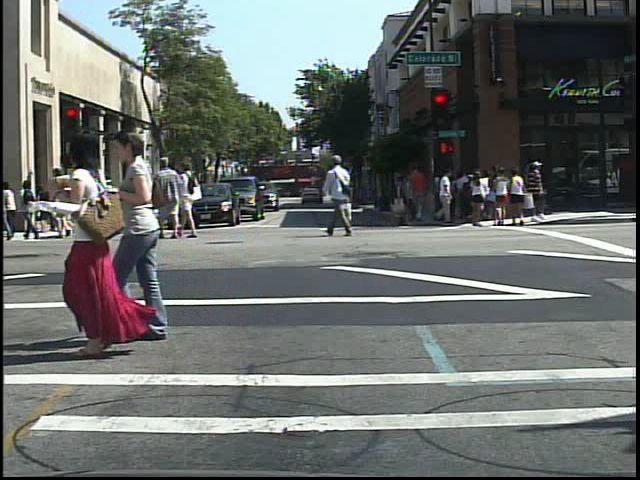person: (43, 128, 155, 362), (111, 126, 187, 339), (324, 150, 361, 243), (151, 155, 185, 242), (521, 159, 561, 227), (50, 166, 77, 245), (83, 168, 111, 242), (179, 158, 202, 239), (19, 175, 43, 244), (469, 171, 491, 231)
